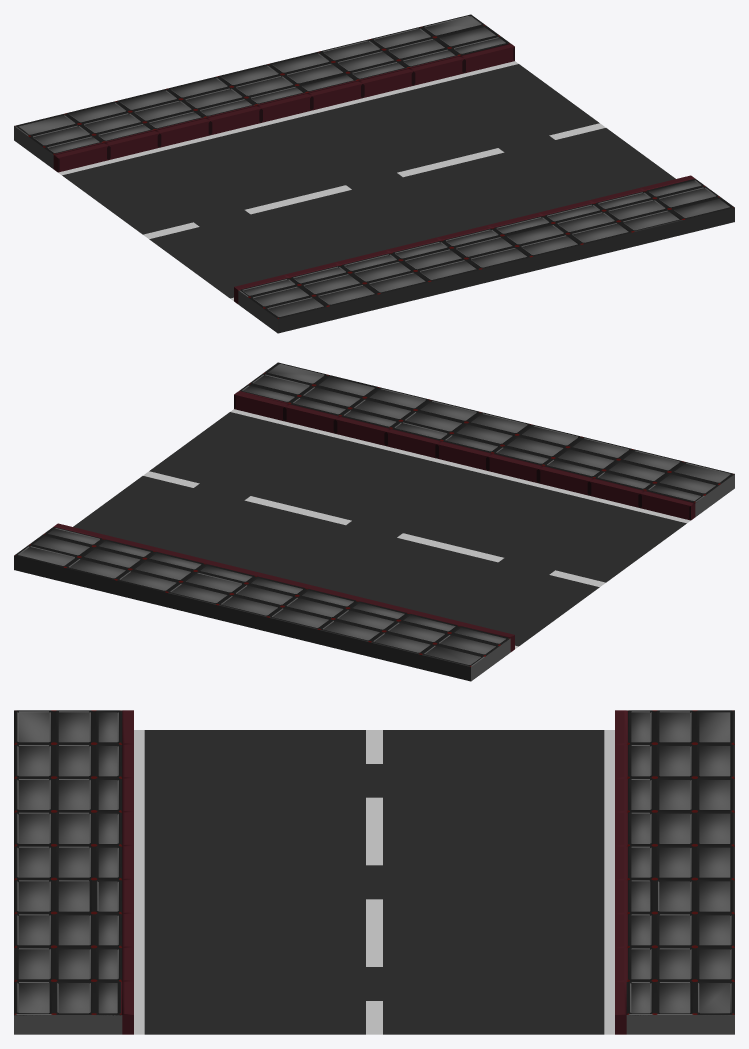
The model's file is street02.obj.
3 views of the same model, one above another, from view 1: azimuth 30°, elevation 25°; view 2: azimuth 150°, elevation 25°; view 3: azimuth 270°, elevation 25° (orthographic). The views are drawn at different scales.
Visible parts, largest first — view 1: Plane; view 2: Plane; view 3: Plane.
Boxes of the visible parts, x1,y1,x2,y2 form: Plane: [14, 14, 734, 333]; Plane: [14, 362, 734, 681]; Plane: [14, 710, 734, 1034].
Size of the model in its own units: 2 by 0.0617 by 2.
